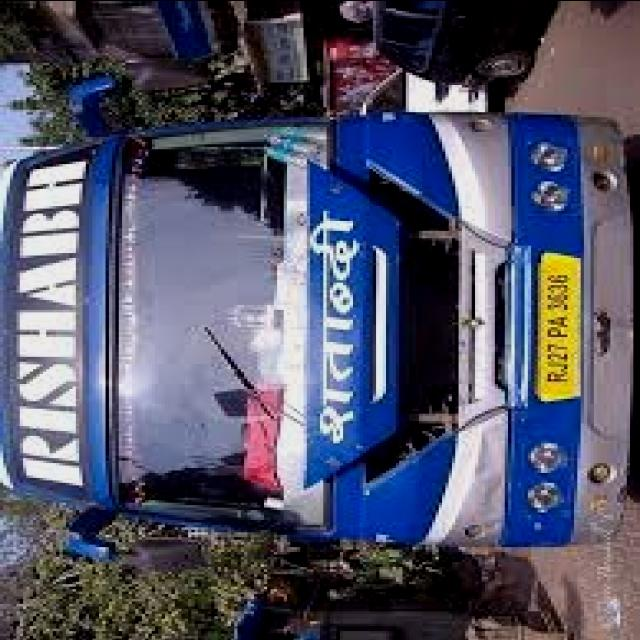bus: (1, 43, 640, 594)
